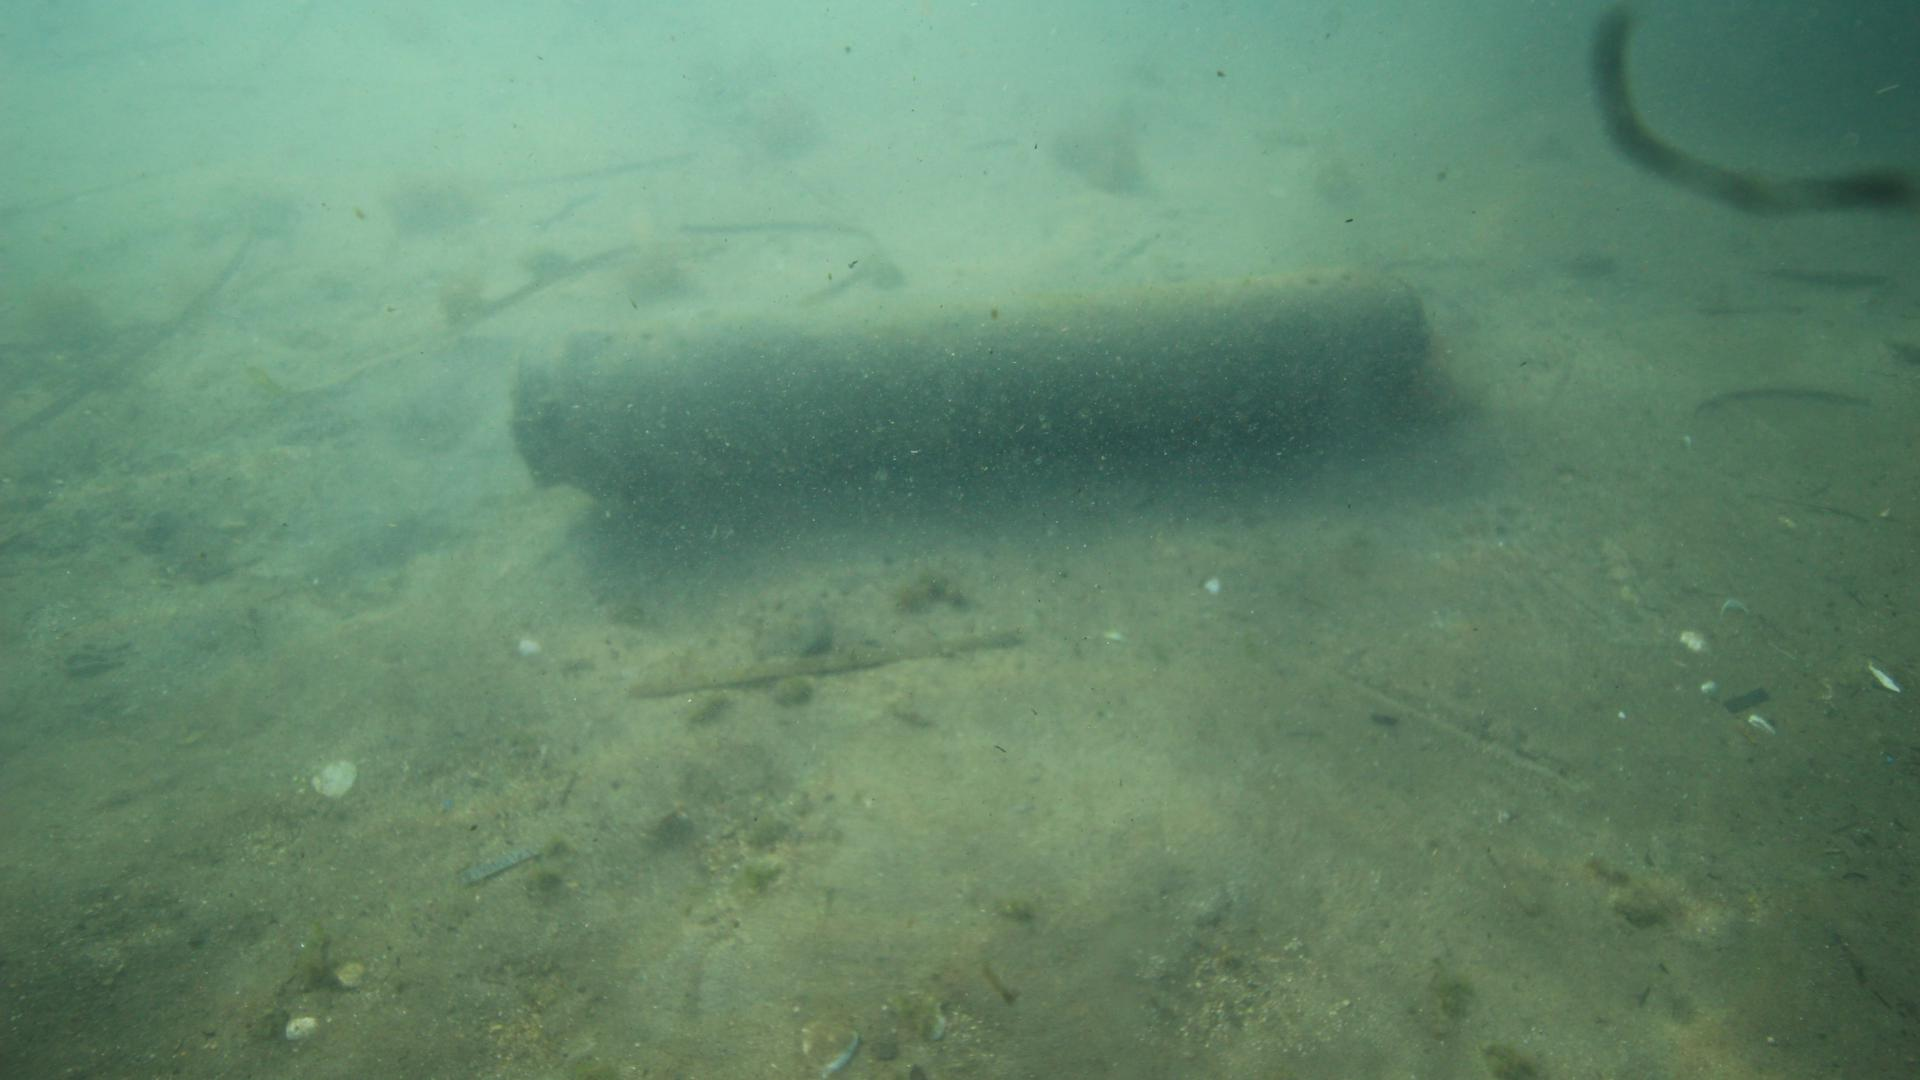eel fish trap: (509, 260, 1424, 505)
